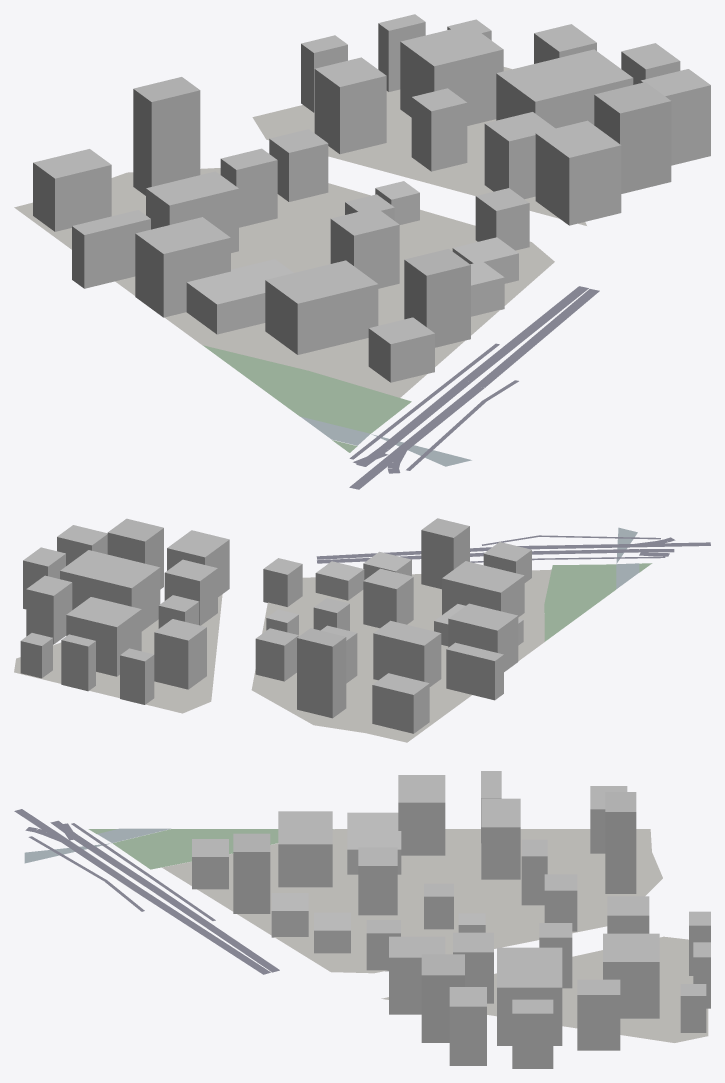
Rendered from 136_106_mid.glb.
The picture shows the model from 3 angles, top to bottom: view 1: azimuth 30°, elevation 25°; view 2: azimuth 150°, elevation 25°; view 3: azimuth 270°, elevation 25°; orthographic projection. The views are drawn at different scales.
Bounding box in the file's own units: 441 × 67.39 × 510.
